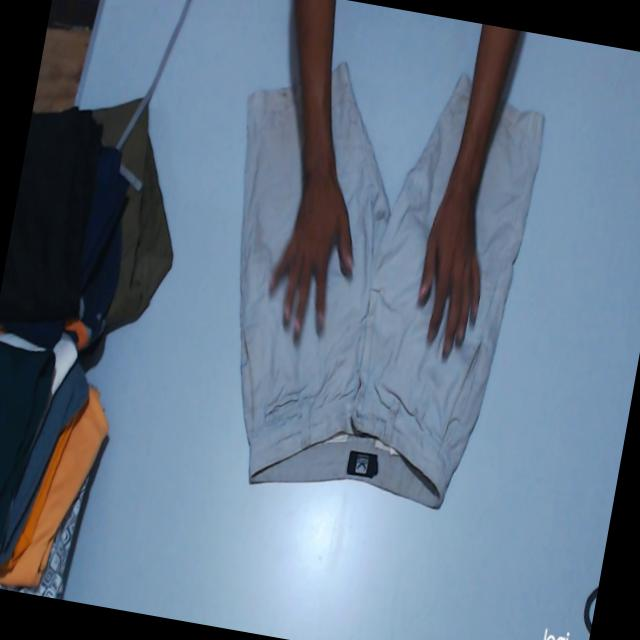new-garment: (240, 63, 543, 507)
